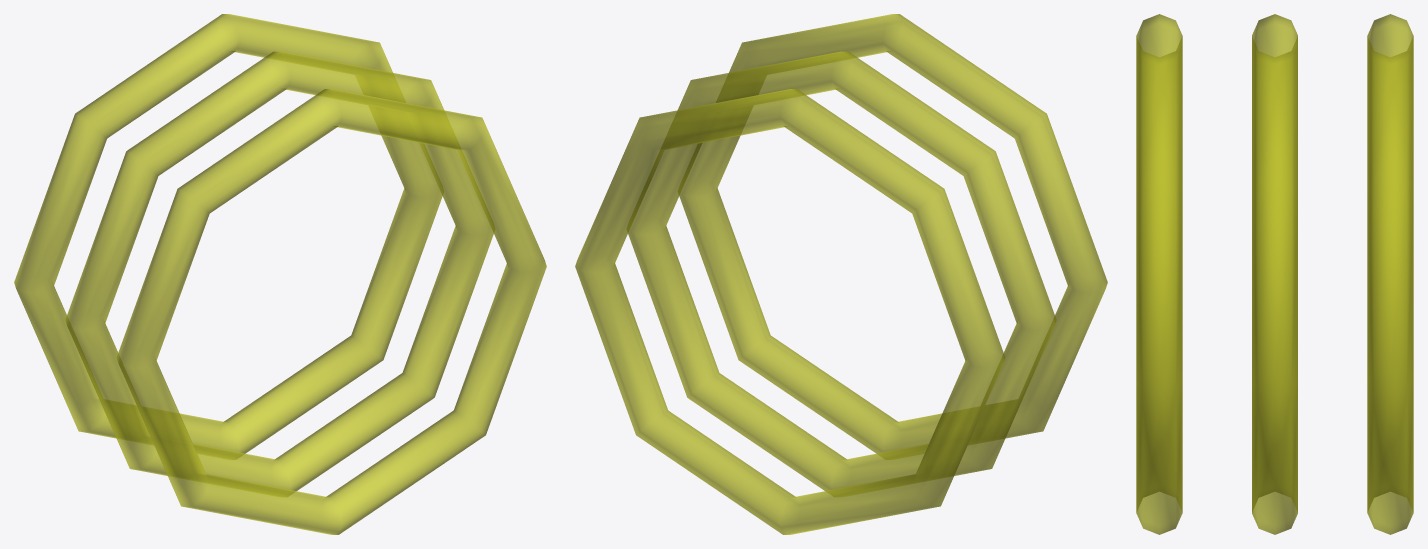
The model's file is beam1.fbx.
The picture shows the model from 3 angles, left to right: view 1: azimuth 30°, elevation 25°; view 2: azimuth 150°, elevation 25°; view 3: azimuth 270°, elevation 25°; orthographic projection. The views are drawn at different scales.
Parts seen in each view (by area): view 1: obj3, obj2, obj1; view 2: obj1, obj2, obj3; view 3: obj1, obj3, obj2.
Part boxes in pixels (left/top/right/bottom): obj3: left=116, top=89, right=546, bottom=534; obj2: left=65, top=51, right=494, bottom=496; obj1: left=14, top=14, right=443, bottom=459; obj1: left=575, top=89, right=1005, bottom=534; obj2: left=627, top=51, right=1056, bottom=496; obj3: left=678, top=14, right=1107, bottom=459; obj1: left=1367, top=14, right=1413, bottom=534; obj3: left=1136, top=14, right=1182, bottom=534; obj2: left=1252, top=14, right=1297, bottom=534.
Bounding box in the file's own units: 240 × 240 × 120.
